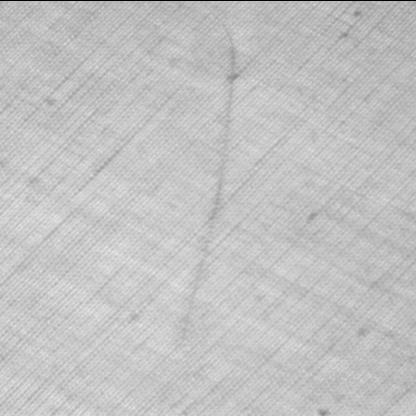objects: (176, 0, 238, 336)
